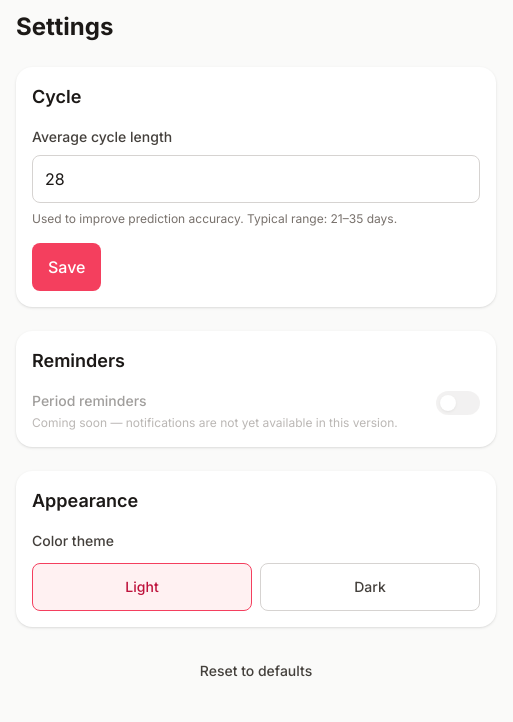
it: SettingsPage › shows validation error for cycle length below 21
This screenshot has width=513, height=722.
Replace the text in the number field labelled "Average cycle length" with "15" at (256, 179), box x1=32 y1=155 x2=480 y2=203
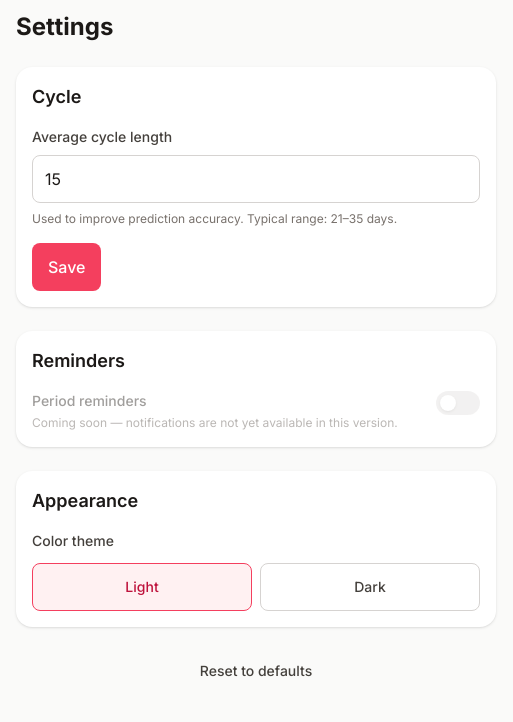
Click the button "Save" at (67, 267), box x1=32 y1=243 x2=102 y2=291
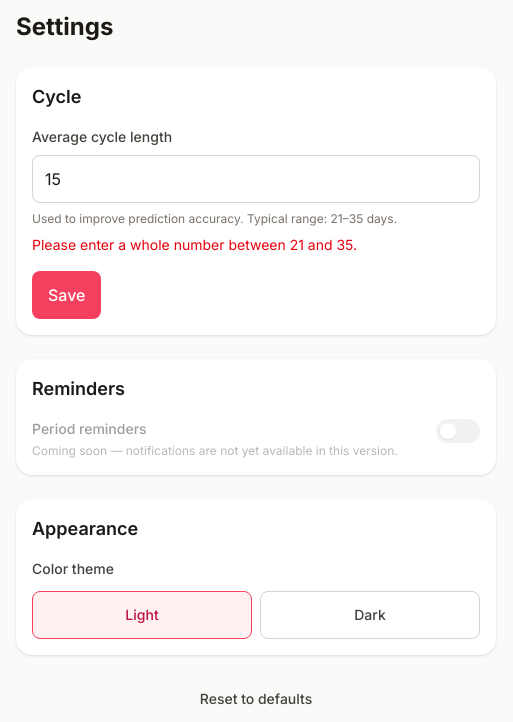
Now the message "Please enter a whole number between 21 and 35." is shown, box x1=32 y1=236 x2=357 y2=253
